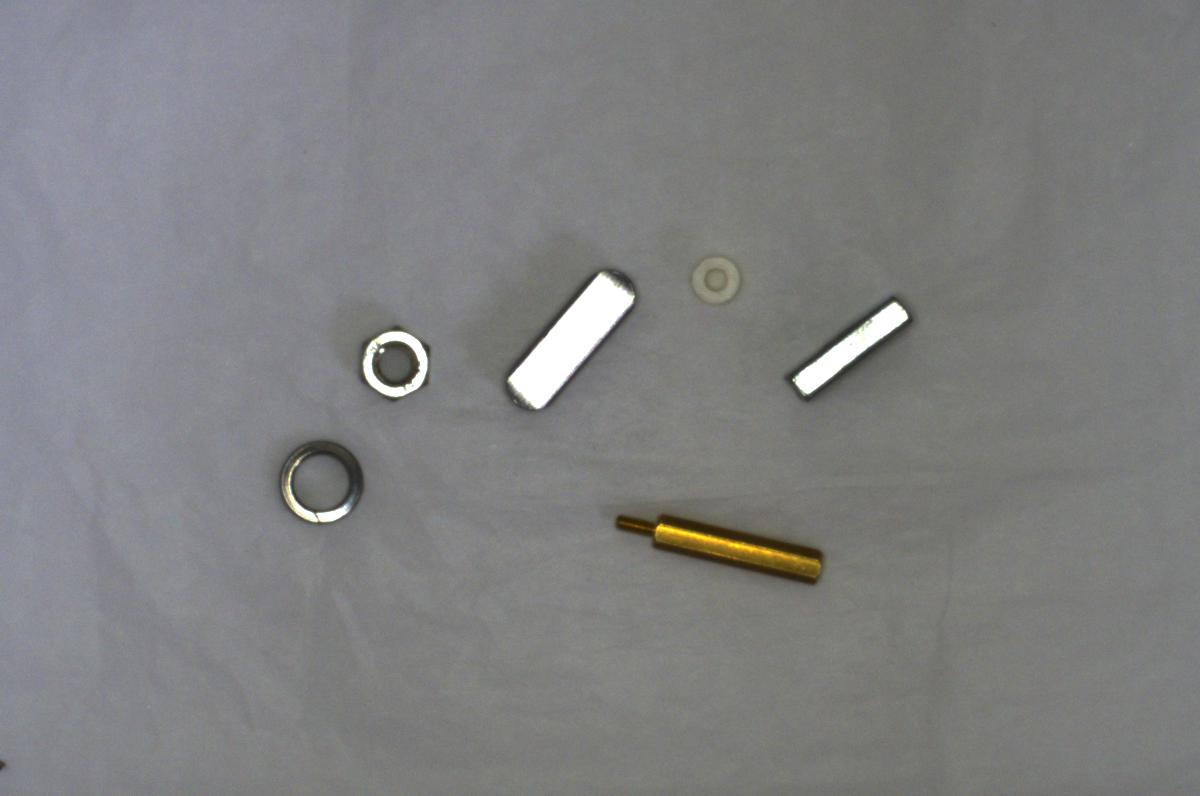Hexagon nut: (357, 315, 435, 401)
Hexagon pillar: (610, 499, 838, 587)
Keybar: (493, 266, 641, 414)
Plastic cushion pillar: (681, 248, 744, 310)
Rectangular nut: (785, 287, 910, 408)
Spring washer: (259, 433, 370, 534)
